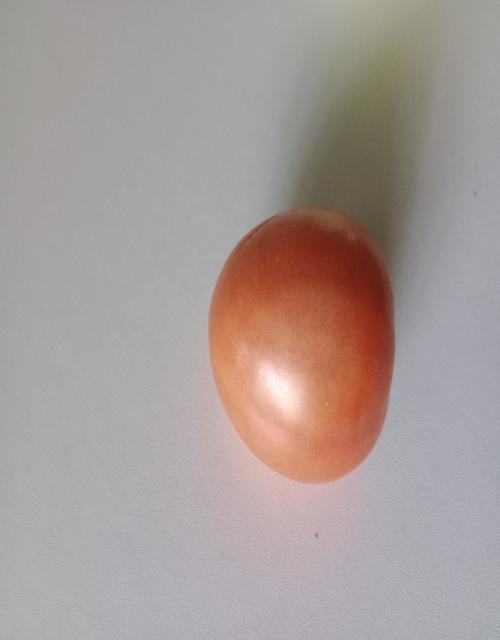Tomate: (192, 180, 427, 523)
